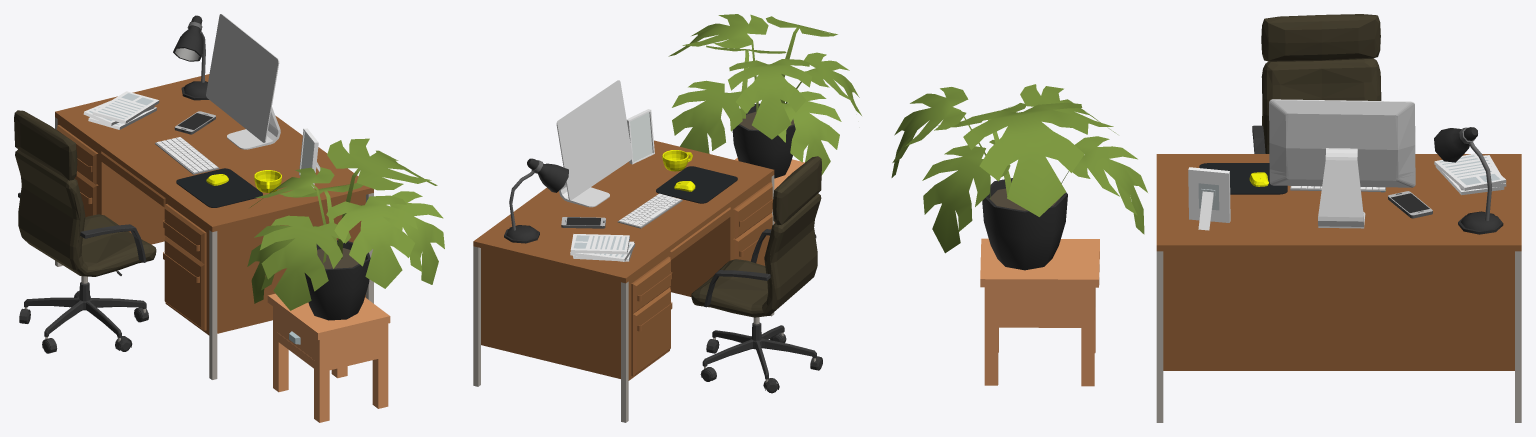
File: officeDesk3.gltf
3 views of the same model, side by side, from view 1: azimuth 30°, elevation 25°; view 2: azimuth 150°, elevation 25°; view 3: azimuth 270°, elevation 25° (orthographic). The views are drawn at different scales.
Parts seen in each view (by area): view 1: Node.003, Houseplant-bfLOqIV5uP, Chair.003, Cabinet Bed Drawer Tabl, Screen, Monitor.001|iMac|Dupli|, Mousepad, Paper, Light Desk.001, Phone, Cup.001|Cup|Dupli|; view 2: Node.003, Houseplant-bfLOqIV5uP, Chair.003, Screen, Monitor.001|iMac|Dupli|, Mousepad, Light Desk.001, Paper, Frame, Cup.001|Cup|Dupli|, Phone, Blank Picture Frame|Node.007|Dupli|; view 3: Node.003, Houseplant-bfLOqIV5uP, Monitor.001|iMac|Dupli|, Chair.003, Cabinet Bed Drawer Tabl, Blank Picture Frame|Node.007|Dupli|, Light Desk.001, Paper, Mousepad, Phone.
Boxes of the visible parts, <box> form: Node.003: <box>55,74,373,379</box>; Houseplant-bfLOqIV5uP: <box>247,138,444,320</box>; Chair.003: <box>14,110,156,353</box>; Cabinet Bed Drawer Tabl: <box>267,293,390,422</box>; Screen: <box>211,20,275,122</box>; Monitor.001|iMac|Dupli|: <box>206,14,280,149</box>; Mousepad: <box>176,168,262,207</box>; Paper: <box>83,91,159,129</box>; Light Desk.001: <box>173,15,208,100</box>; Phone: <box>174,111,215,134</box>; Cup.001|Cup|Dupli|: <box>254,170,281,192</box>; Node.003: <box>473,140,774,422</box>; Houseplant-bfLOqIV5uP: <box>668,14,861,178</box>; Chair.003: <box>691,156,822,393</box>; Screen: <box>560,86,627,181</box>; Monitor.001|iMac|Dupli|: <box>556,80,632,207</box>; Mousepad: <box>656,166,737,203</box>; Light Desk.001: <box>504,158,568,243</box>; Paper: <box>570,234,634,261</box>; Frame: <box>630,112,652,162</box>; Cup.001|Cup|Dupli|: <box>662,150,692,171</box>; Phone: <box>561,217,605,228</box>; Blank Picture Frame|Node.007|Dupli|: <box>626,109,654,164</box>; Node.003: <box>1156,154,1521,422</box>; Houseplant-bfLOqIV5uP: <box>891,84,1147,270</box>; Monitor.001|iMac|Dupli|: <box>1269,99,1415,228</box>; Chair.003: <box>1252,14,1381,153</box>; Cabinet Bed Drawer Tabl: <box>980,238,1099,386</box>; Blank Picture Frame|Node.007|Dupli|: <box>1188,167,1230,230</box>; Light Desk.001: <box>1434,127,1503,234</box>; Paper: <box>1434,153,1506,195</box>; Mousepad: <box>1199,163,1287,194</box>; Phone: <box>1388,191,1432,218</box>.
Size of the model in its own units: 1.73 by 1.56 by 2.99.
31 materials, 2 textured.
